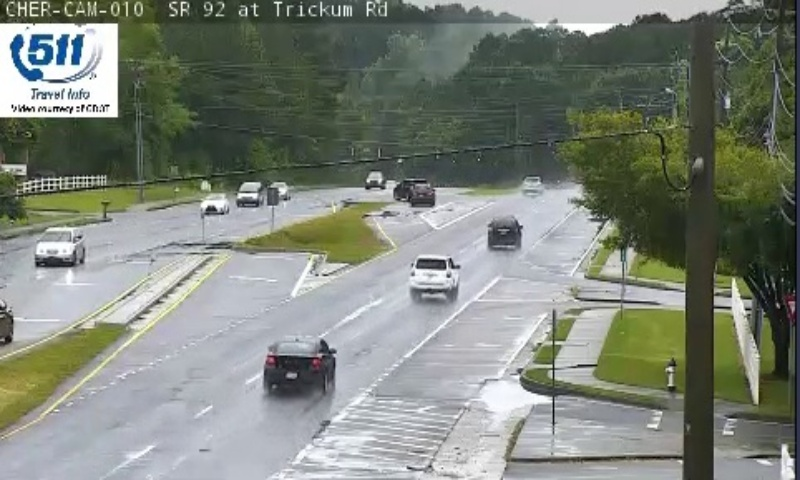car: (263, 337, 335, 384), (409, 254, 458, 292), (486, 216, 521, 247)
